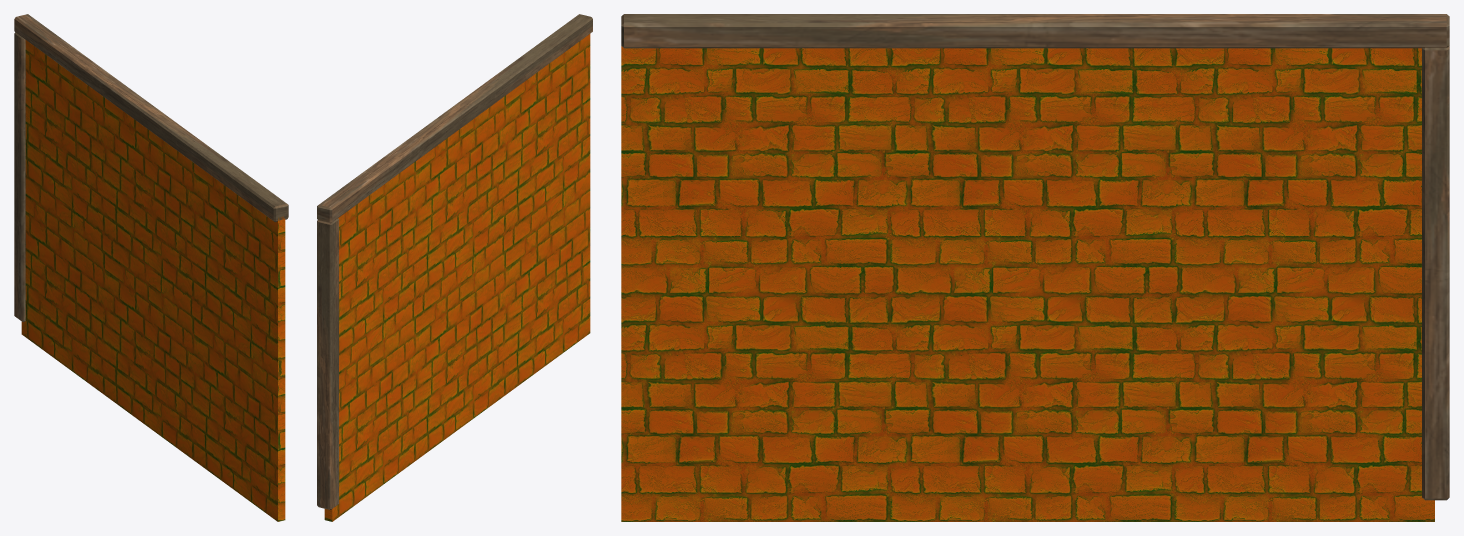
3 views of the same model, side by side, from view 1: azimuth 30°, elevation 25°; view 2: azimuth 150°, elevation 25°; view 3: azimuth 270°, elevation 25° (orthographic). The views are drawn at different scales.
Parts seen in each view (by area): view 1: SM_wall_19_LOD0; view 2: SM_wall_19_LOD0; view 3: SM_wall_19_LOD0.
Boxes of the visible parts, x1,y1,x2,y2 form: SM_wall_19_LOD0: (14, 14, 288, 521); SM_wall_19_LOD0: (317, 14, 592, 521); SM_wall_19_LOD0: (621, 14, 1449, 521).
Bounding box in the file's own units: 20 × 600 × 400.
Materials: 2 (2 with a texture image).
